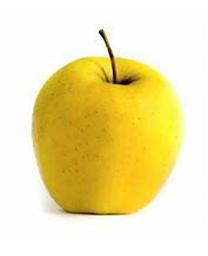apple: (30, 29, 185, 215)
